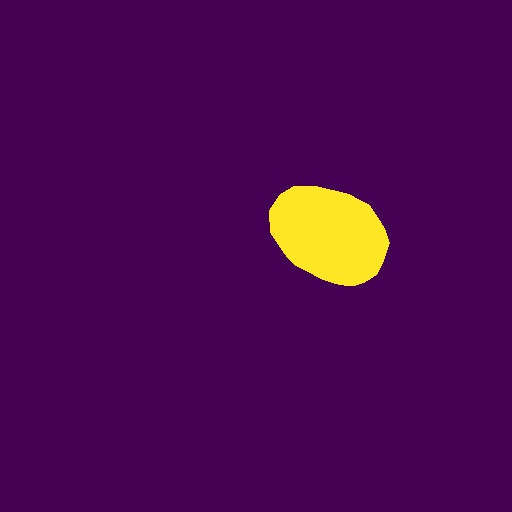Gliomia_tumour: (269, 186, 390, 286)
